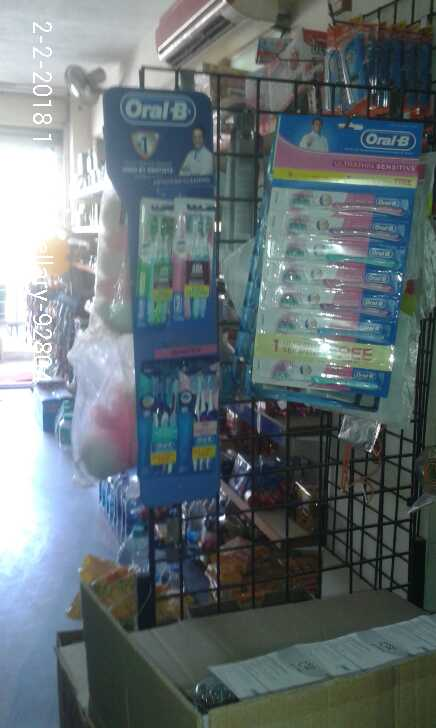oralb: (260, 171, 390, 406), (171, 191, 220, 324), (132, 197, 178, 332), (133, 367, 184, 468), (183, 369, 222, 476)
